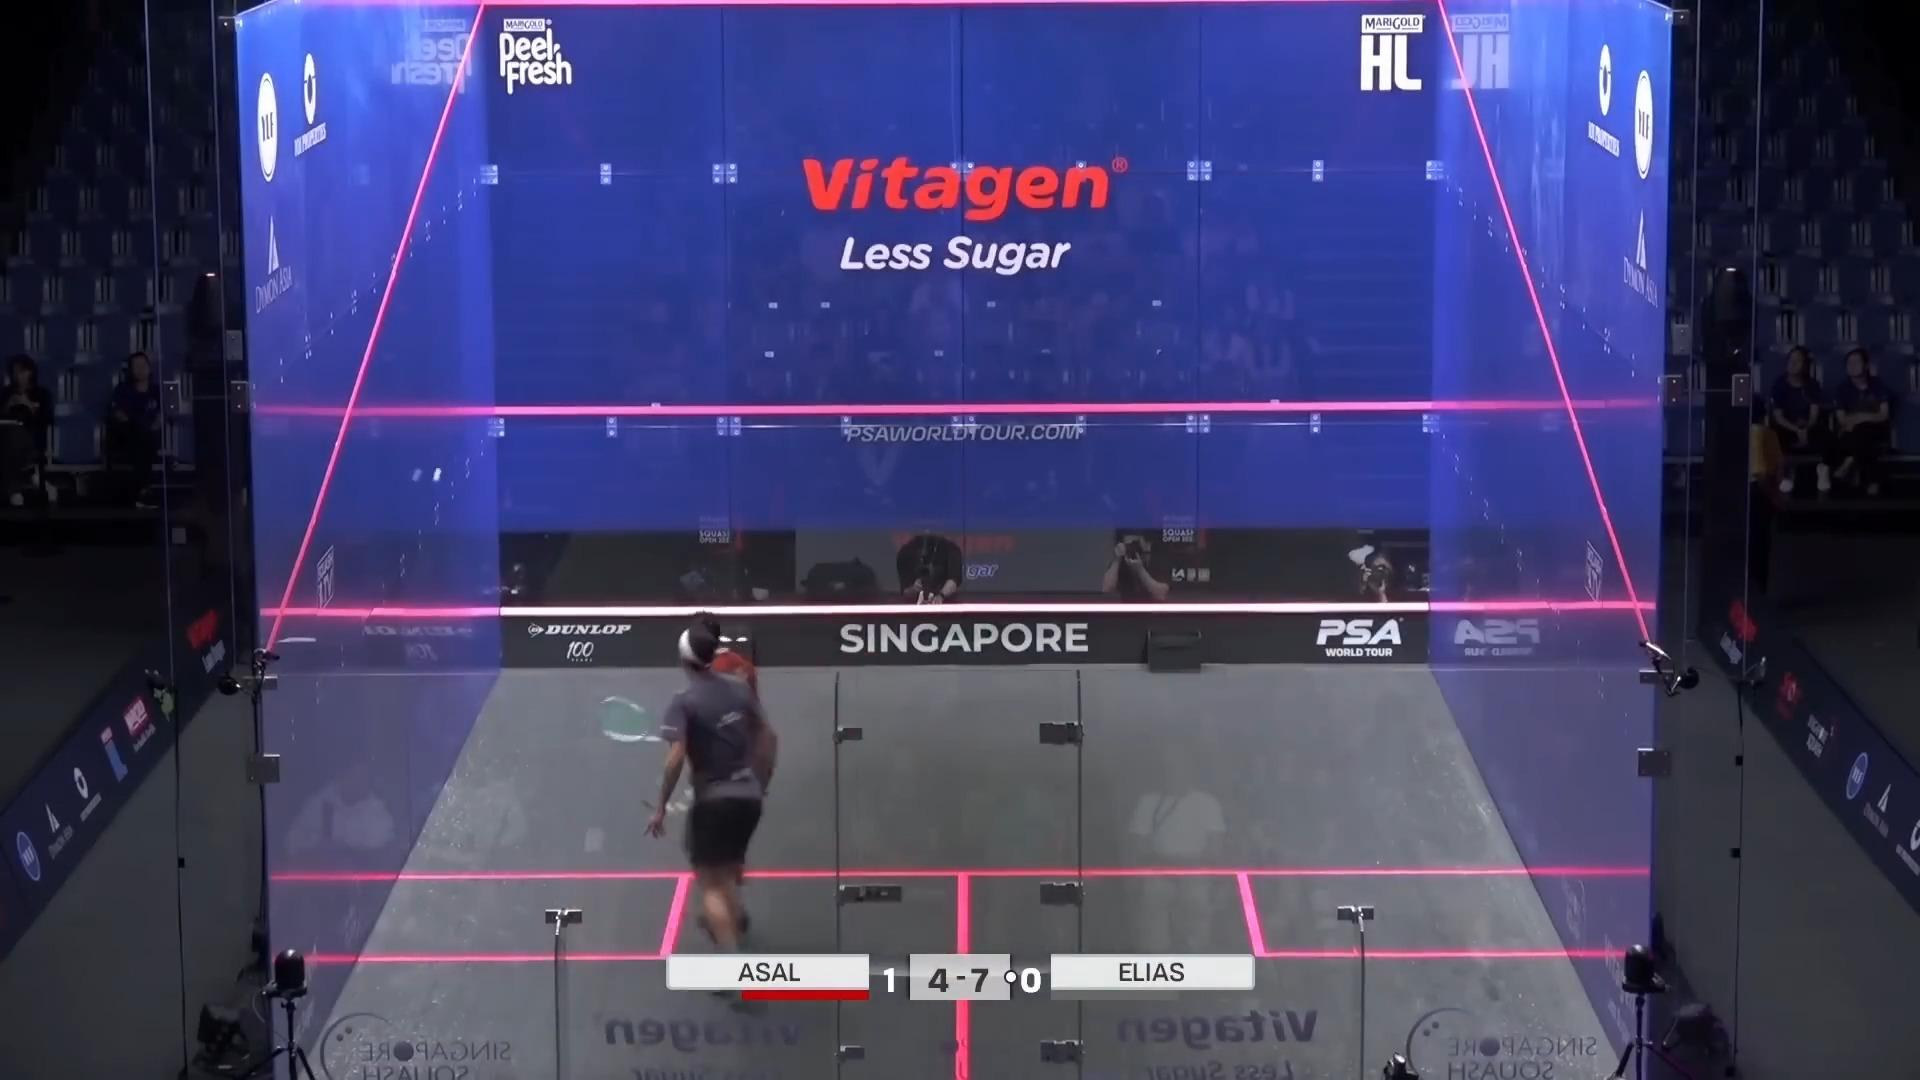Squash-Ball: (413, 455, 460, 496)
